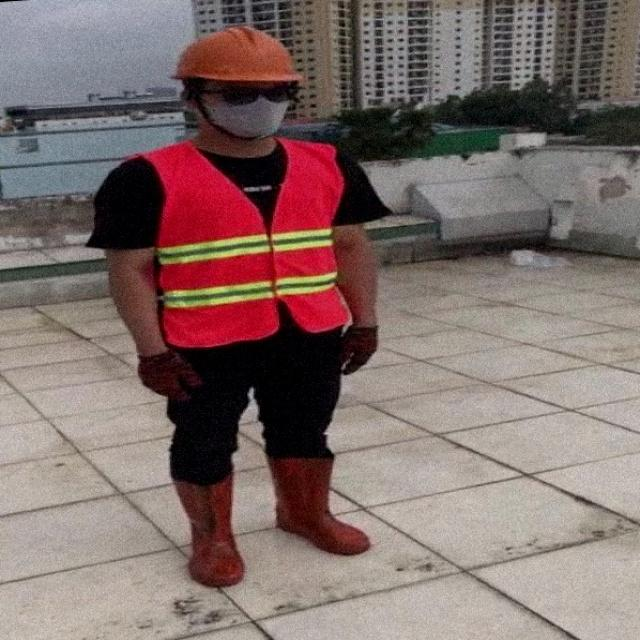helmet: (164, 19, 306, 88)
safety_vest: (115, 134, 362, 344)
